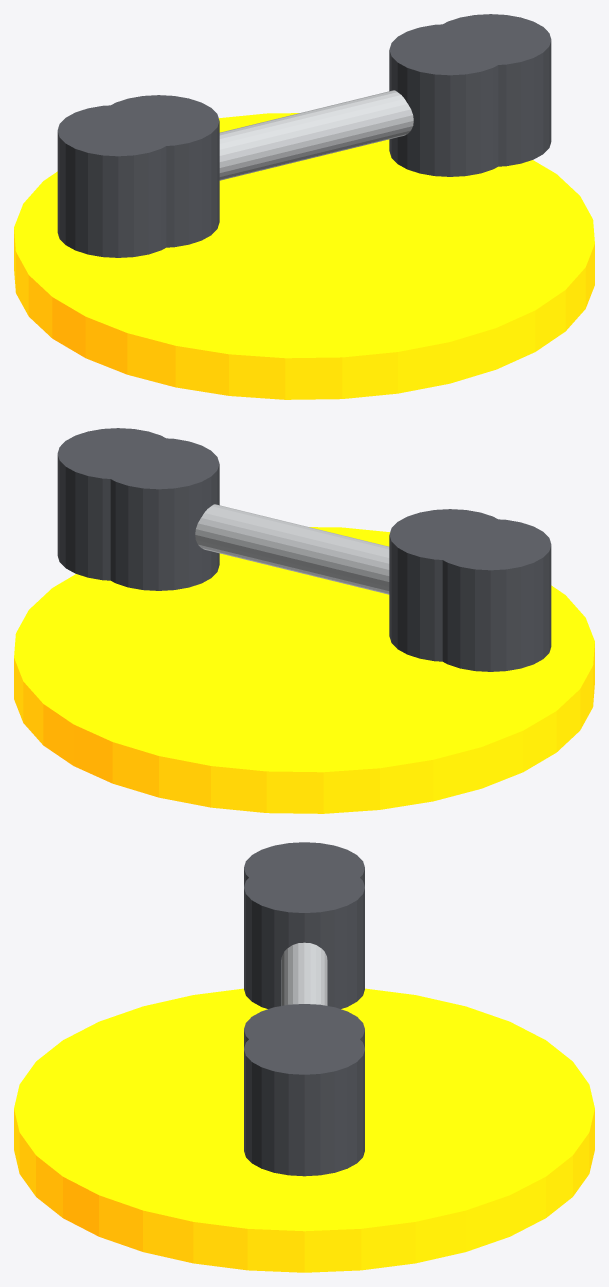
File: fitness_dumbbell.glb
3 renders of one model, top to bottom at view 1: azimuth 30°, elevation 25°; view 2: azimuth 150°, elevation 25°; view 3: azimuth 270°, elevation 25°, orthographic.
Parts seen in each view (by area): view 1: 02_01_Popular_Fitness_Dumbbell_ROOT_base, 02_01_Popular_Fitness_Dumbbell_part_02, 02_01_Popular_Fitness_Dumbbell_part_04, 02_01_Popular_Fitness_Dumbbell_part_03, 02_01_Popular_Fitness_Dumbbell_part_01, 02_01_Popular_Fitness_Dumbbell_part_05; view 2: 02_01_Popular_Fitness_Dumbbell_ROOT_base, 02_01_Popular_Fitness_Dumbbell_part_02, 02_01_Popular_Fitness_Dumbbell_part_04, 02_01_Popular_Fitness_Dumbbell_part_03, 02_01_Popular_Fitness_Dumbbell_part_01, 02_01_Popular_Fitness_Dumbbell_part_05; view 3: 02_01_Popular_Fitness_Dumbbell_ROOT_base, 02_01_Popular_Fitness_Dumbbell_part_05, 02_01_Popular_Fitness_Dumbbell_part_03, 02_01_Popular_Fitness_Dumbbell_part_04, 02_01_Popular_Fitness_Dumbbell_part_02, 02_01_Popular_Fitness_Dumbbell_part_01.
Boxes of the visible parts, x1,y1,x2,y2 form: 02_01_Popular_Fitness_Dumbbell_ROOT_base: [14, 113, 594, 399]; 02_01_Popular_Fitness_Dumbbell_part_02: [57, 105, 178, 257]; 02_01_Popular_Fitness_Dumbbell_part_04: [389, 24, 510, 176]; 02_01_Popular_Fitness_Dumbbell_part_03: [98, 95, 219, 247]; 02_01_Popular_Fitness_Dumbbell_part_01: [219, 90, 413, 180]; 02_01_Popular_Fitness_Dumbbell_part_05: [432, 14, 551, 166]; 02_01_Popular_Fitness_Dumbbell_ROOT_base: [14, 527, 594, 813]; 02_01_Popular_Fitness_Dumbbell_part_02: [430, 519, 551, 671]; 02_01_Popular_Fitness_Dumbbell_part_04: [98, 438, 219, 590]; 02_01_Popular_Fitness_Dumbbell_part_03: [389, 509, 508, 661]; 02_01_Popular_Fitness_Dumbbell_part_01: [195, 504, 389, 594]; 02_01_Popular_Fitness_Dumbbell_part_05: [57, 428, 178, 580]; 02_01_Popular_Fitness_Dumbbell_ROOT_base: [14, 988, 594, 1272]; 02_01_Popular_Fitness_Dumbbell_part_05: [244, 1023, 364, 1176]; 02_01_Popular_Fitness_Dumbbell_part_03: [244, 862, 364, 1008]; 02_01_Popular_Fitness_Dumbbell_part_04: [244, 1004, 364, 1054]; 02_01_Popular_Fitness_Dumbbell_part_02: [244, 842, 364, 893]; 02_01_Popular_Fitness_Dumbbell_part_01: [281, 942, 327, 1005].
Size of the model in its own units: 0.76 by 0.2764 by 0.76.
